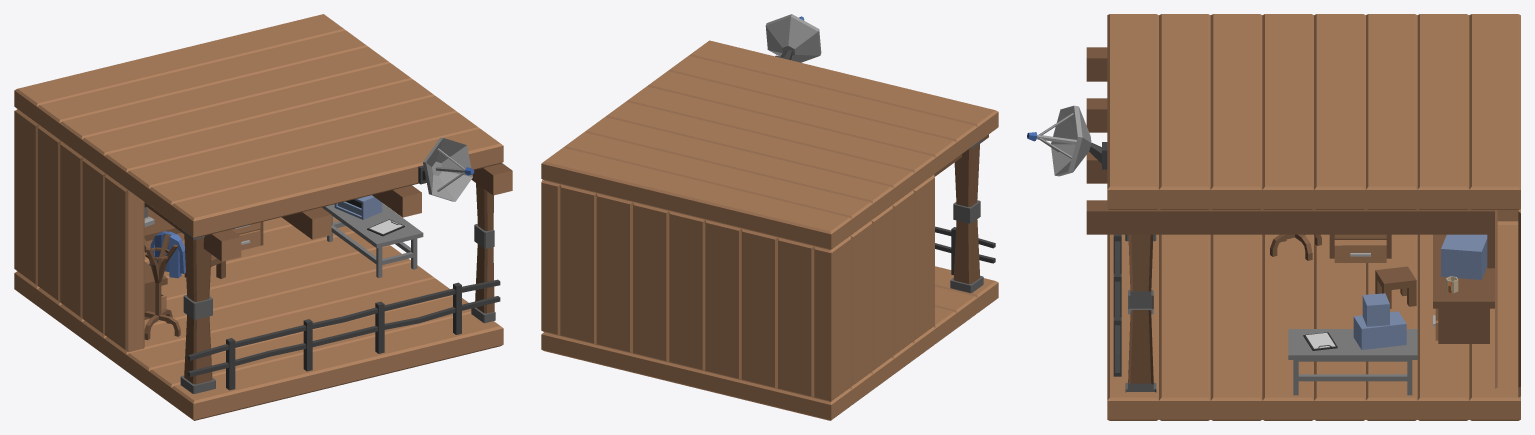
File: RadioStation_Lvl_01_Straight_Left.fbx
3 renders of one model, left to right at view 1: azimuth 30°, elevation 25°; view 2: azimuth 150°, elevation 25°; view 3: azimuth 270°, elevation 25°, orthographic. The views are drawn at different scales.
Visible parts, largest first — view 1: RadioStation_Lvl_01_Straight_Left; view 2: RadioStation_Lvl_01_Straight_Left; view 3: RadioStation_Lvl_01_Straight_Left.
Part boxes in pixels (x1,y1,x2,y2): RadioStation_Lvl_01_Straight_Left: [14, 14, 512, 420]; RadioStation_Lvl_01_Straight_Left: [541, 14, 998, 420]; RadioStation_Lvl_01_Straight_Left: [1027, 14, 1520, 420].
Size of the model in its own units: 8 by 5.85 by 9.55.
